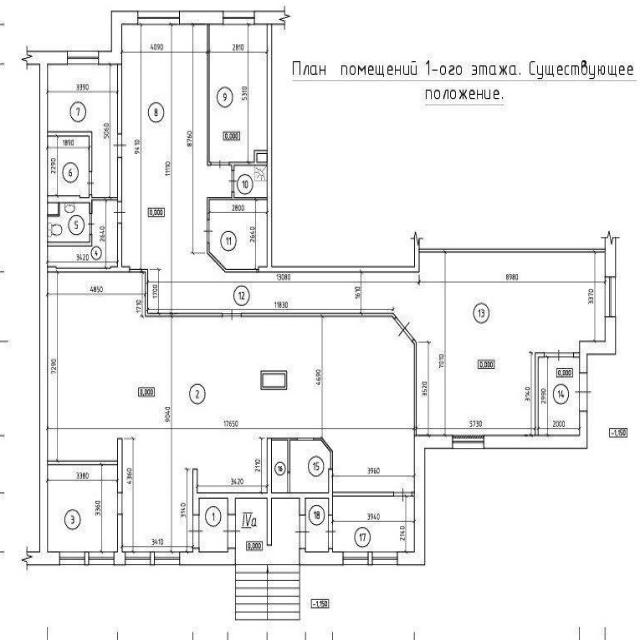Bathrooms: (48, 204, 89, 241), (235, 166, 266, 197)
Corridors: (122, 24, 605, 436), (48, 274, 414, 551), (48, 64, 117, 196), (48, 200, 117, 268), (236, 498, 299, 562), (539, 357, 579, 435), (48, 137, 89, 198), (199, 499, 227, 553), (306, 499, 328, 552), (272, 442, 288, 492)
Doors: (574, 372, 593, 412), (223, 513, 240, 549), (188, 514, 205, 549), (394, 316, 415, 343), (295, 514, 310, 549), (324, 514, 337, 549), (112, 132, 128, 159), (544, 349, 573, 361), (393, 487, 412, 503), (222, 307, 242, 322), (84, 171, 96, 195), (113, 202, 126, 223), (203, 219, 214, 243), (86, 213, 97, 235), (228, 170, 239, 192), (211, 158, 229, 169), (117, 493, 122, 515), (297, 438, 314, 442), (105, 197, 117, 201), (288, 472, 290, 492)
LBwalls: (19, 44, 68, 573), (397, 435, 453, 566), (483, 411, 588, 449), (98, 10, 138, 65), (579, 317, 616, 373), (254, 4, 292, 32), (179, 547, 236, 565), (600, 229, 621, 276), (299, 548, 343, 565), (179, 10, 223, 26), (114, 514, 125, 565), (260, 370, 287, 389), (47, 195, 89, 204), (117, 438, 123, 494), (89, 195, 105, 213), (228, 493, 236, 515), (299, 493, 306, 515), (193, 493, 199, 516), (368, 551, 373, 565), (150, 552, 155, 565), (85, 552, 89, 565)
Offices: (210, 26, 267, 161), (48, 466, 117, 552), (333, 498, 414, 552), (210, 200, 266, 270), (291, 442, 330, 492)
Stairs: (235, 562, 301, 622)
Walls: (207, 24, 606, 273), (47, 222, 222, 317), (236, 437, 299, 546), (306, 438, 394, 516), (47, 131, 92, 172), (241, 313, 396, 319), (535, 352, 545, 436), (47, 235, 92, 247), (412, 340, 417, 436), (207, 25, 210, 166), (117, 65, 122, 134), (48, 461, 117, 465), (47, 203, 60, 218), (118, 158, 122, 202), (199, 493, 227, 499), (192, 468, 198, 493), (573, 352, 580, 357), (412, 491, 414, 497)
Windows: (138, 10, 179, 24), (604, 275, 616, 317), (453, 434, 484, 449), (67, 51, 98, 65), (223, 11, 254, 24), (88, 552, 115, 565), (60, 552, 86, 565), (372, 552, 398, 565), (125, 552, 150, 565), (343, 552, 368, 565), (155, 552, 179, 565)
